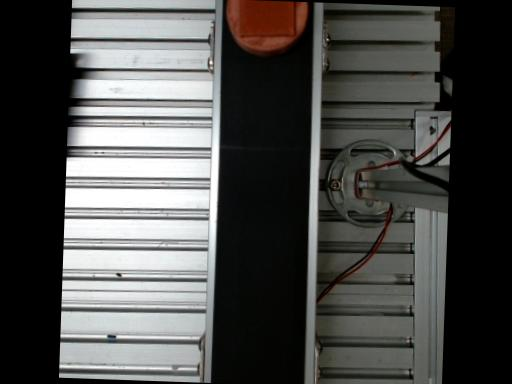Brown_Waper: (225, 0, 307, 55)
Not_Square: (238, 0, 294, 36)
